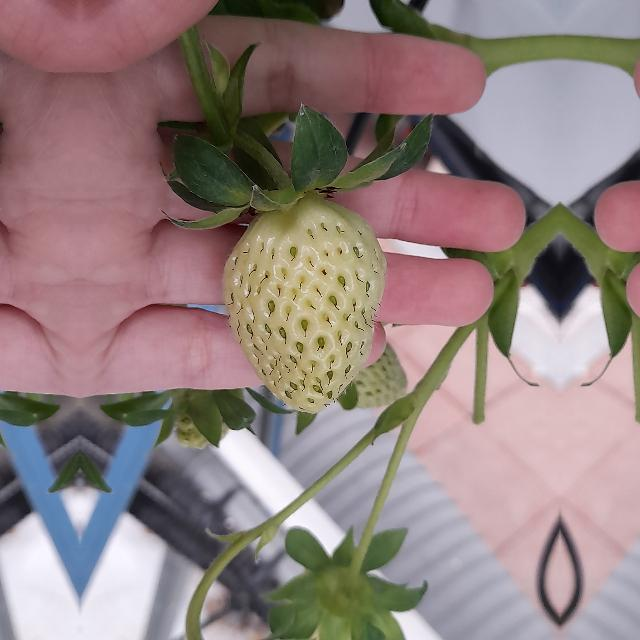Health_25: (222, 199, 386, 413)
